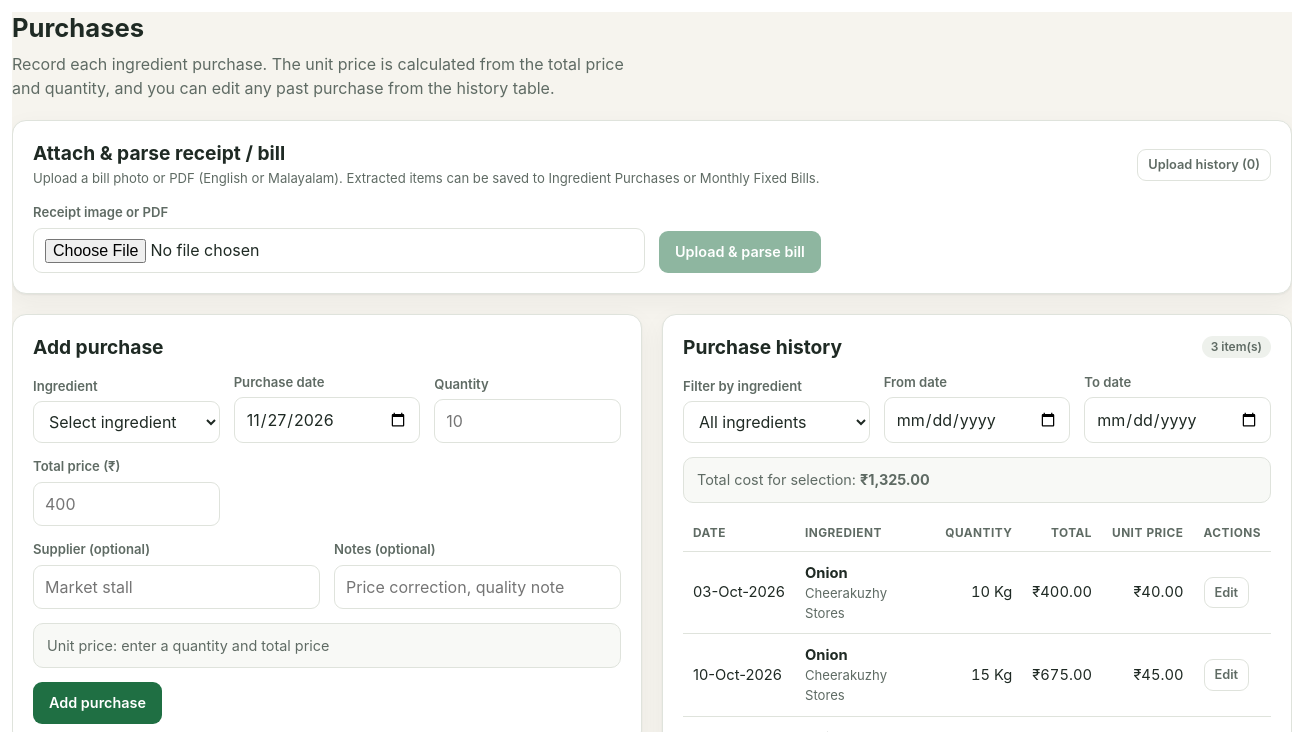
Scenario: Purchases screen › filters purchases by date range and shows total cost for the selection
The width and height of the screenshot is (1292, 732).
Expected: the text "03-Oct-2026" is shown, [683,551,795,634]
Expected: the text "₹1,325.00" is shown, [860,471,930,488]
Type "2026-10-03" into the date field labelled "From date". click: (977, 420)
box: [884,397,1070,443]
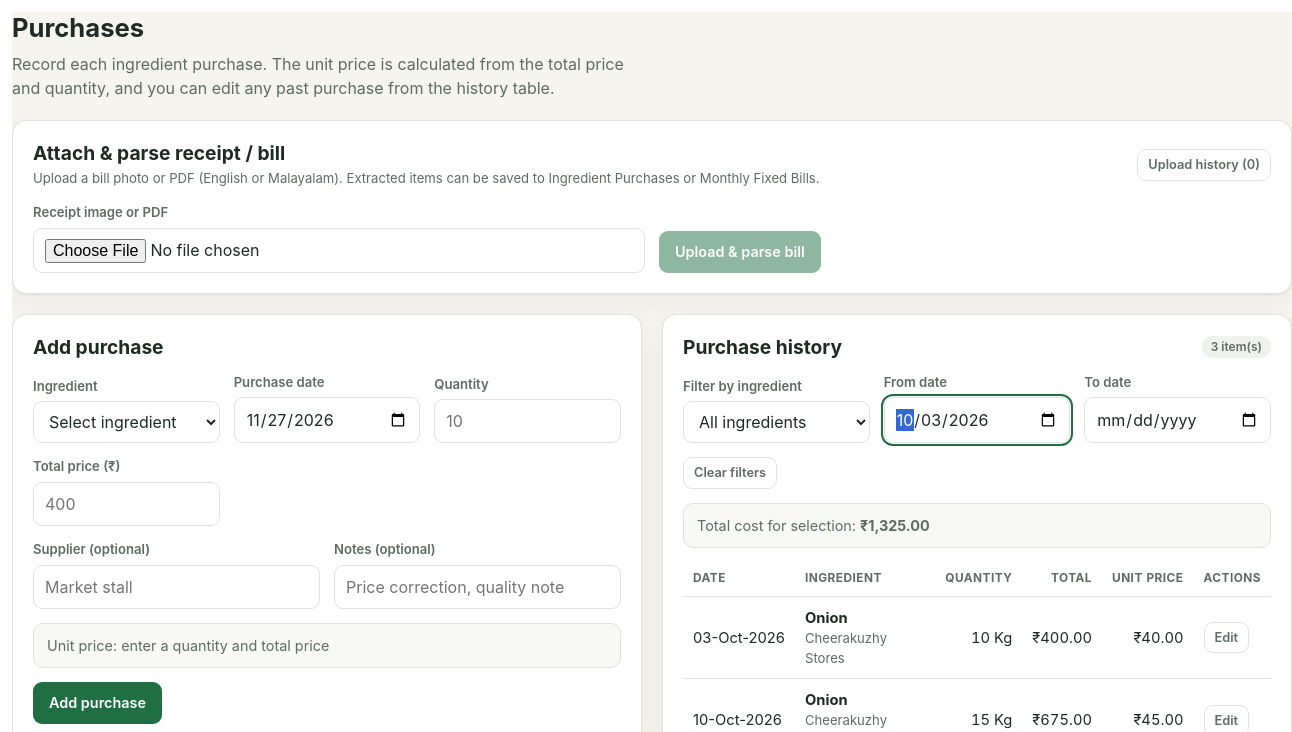
Type "2026-10-10" into the date field labelled "To date". click: (1178, 420)
box: [1084,397,1271,443]
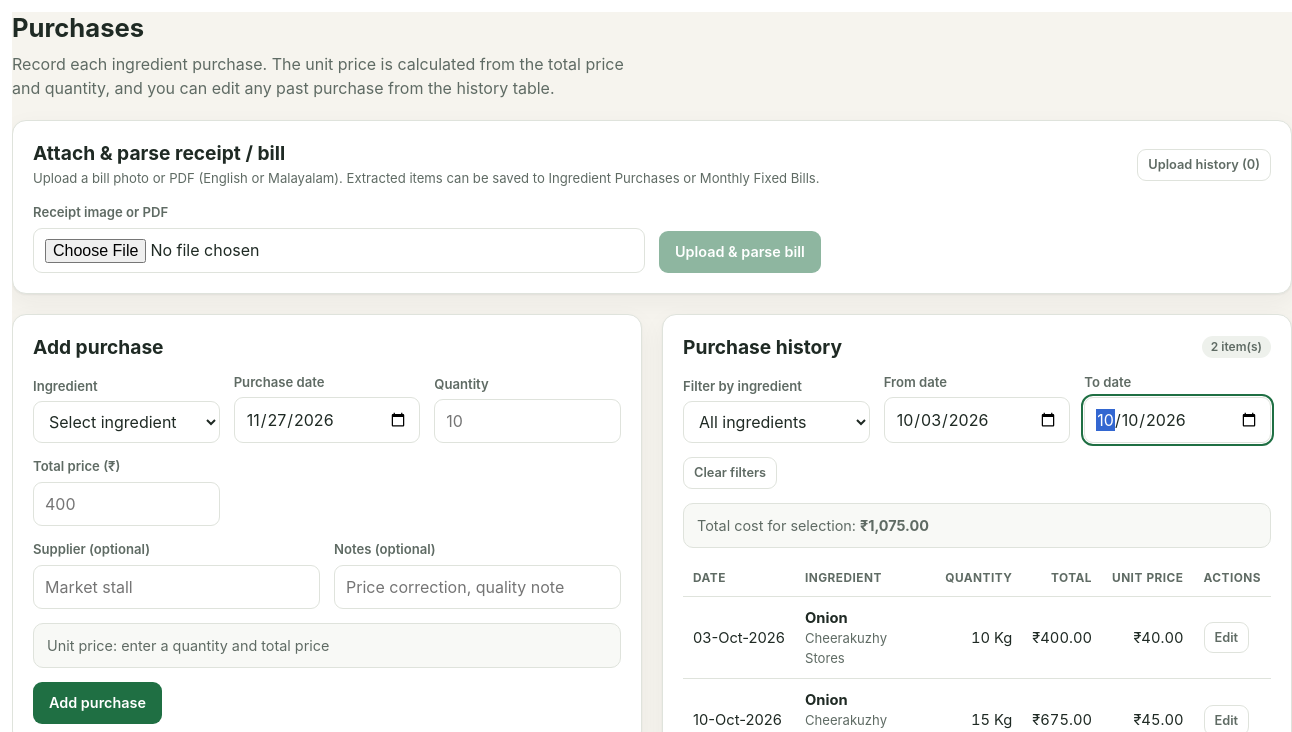
Expected: the text "03-Oct-2026" is shown, [683,596,795,679]
Expected: the text "₹1,075.00" is shown, [860,516,929,534]
